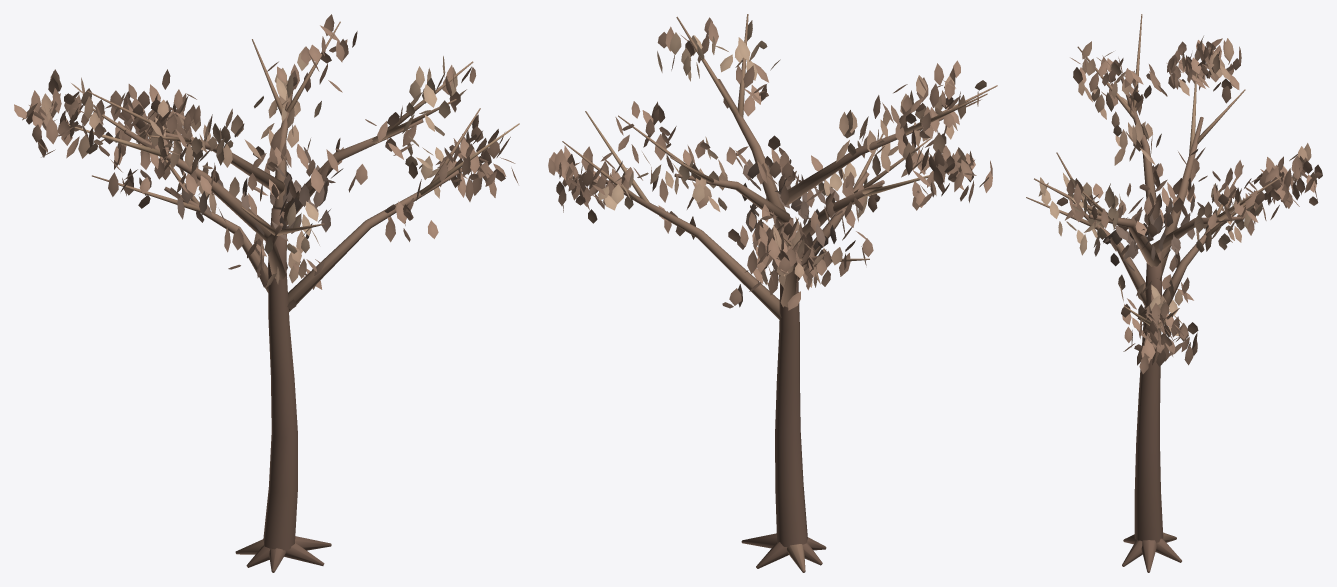
File: tree_3d_03_copper.glb
3 views of the same model, side by side, from view 1: azimuth 30°, elevation 25°; view 2: azimuth 150°, elevation 25°; view 3: azimuth 270°, elevation 25° (orthographic). The views are drawn at different scales.
Visible parts, largest first — view 1: tree_3d_03_copper_foliage, tree_3d_03_copper_wood; view 2: tree_3d_03_copper_foliage, tree_3d_03_copper_wood; view 3: tree_3d_03_copper_foliage, tree_3d_03_copper_wood.
Boxes of the visible parts, x1,y1,x2,y2 form: tree_3d_03_copper_foliage: [14, 14, 518, 309]; tree_3d_03_copper_wood: [68, 21, 519, 572]; tree_3d_03_copper_foliage: [548, 17, 992, 310]; tree_3d_03_copper_wood: [562, 14, 997, 572]; tree_3d_03_copper_foliage: [1038, 36, 1322, 373]; tree_3d_03_copper_wood: [1026, 14, 1281, 572].
Bounding box in the file's own units: 12.01 × 12.95 × 7.61.
